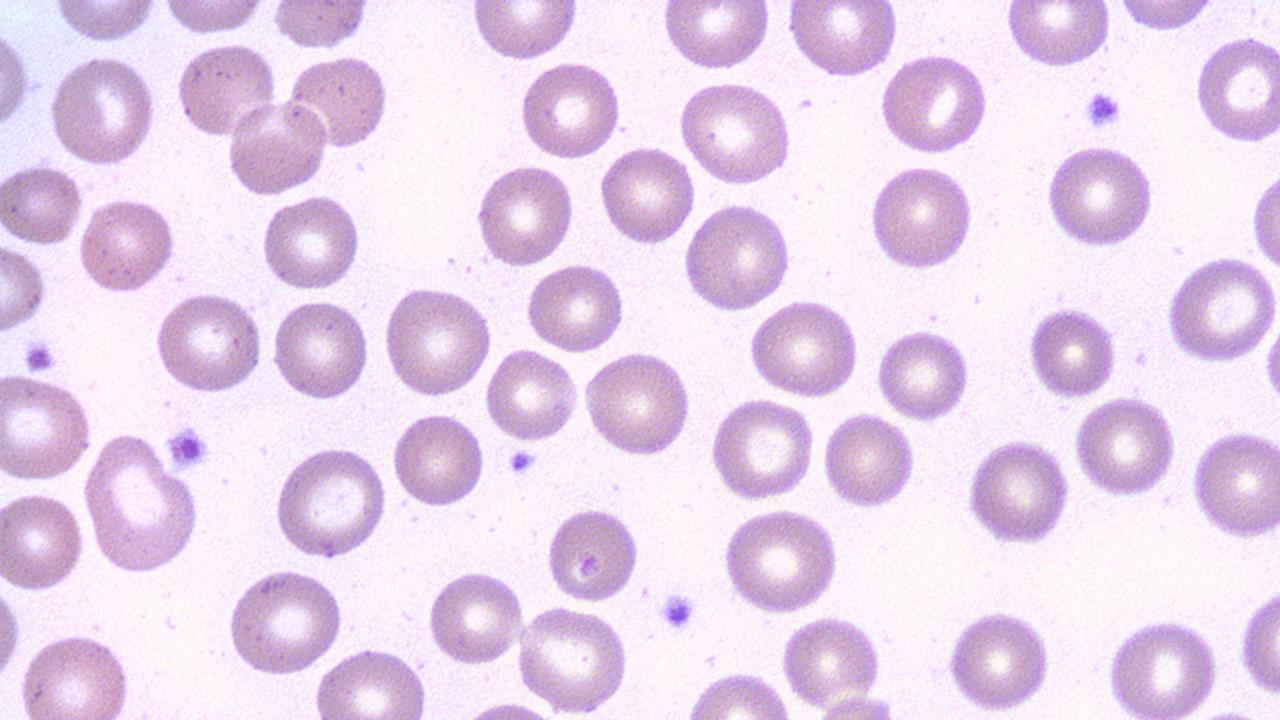Platelets: (163, 422, 212, 474), (659, 586, 698, 635), (1082, 89, 1124, 134), (21, 336, 60, 376), (506, 446, 539, 476)
RBC: (81, 430, 204, 574), (222, 565, 348, 679), (511, 602, 633, 714), (271, 444, 388, 560), (379, 282, 494, 399), (719, 506, 842, 615), (676, 77, 796, 188), (47, 52, 158, 169), (960, 435, 1074, 548), (682, 199, 794, 313), (1042, 141, 1158, 250), (1164, 254, 1278, 364), (1101, 614, 1223, 716), (866, 162, 979, 272), (582, 350, 694, 460), (878, 50, 992, 158), (152, 289, 266, 396), (944, 608, 1056, 714), (707, 396, 819, 502), (745, 298, 863, 398), (1071, 393, 1179, 497), (514, 60, 626, 160), (472, 161, 576, 268), (285, 52, 394, 153), (0, 369, 95, 484), (76, 194, 181, 298), (16, 628, 137, 718), (269, 297, 371, 403), (256, 194, 365, 292), (223, 98, 329, 198), (1188, 425, 1278, 542), (596, 143, 696, 247), (1192, 29, 1280, 147), (425, 566, 526, 668), (174, 41, 278, 140), (782, 616, 889, 712), (542, 504, 642, 604), (874, 326, 976, 424), (388, 410, 487, 510), (820, 410, 918, 511), (481, 348, 582, 445), (1023, 300, 1119, 401), (524, 262, 628, 354), (0, 487, 88, 594), (309, 646, 432, 718), (784, 2, 897, 80), (657, 1, 770, 72), (1004, 1, 1114, 71), (0, 161, 82, 248), (467, 4, 582, 62), (1234, 577, 1280, 705), (683, 669, 799, 717), (268, 1, 373, 53), (48, 1, 160, 44), (0, 241, 49, 337), (1109, 0, 1225, 34), (1249, 158, 1279, 278), (162, 1, 267, 34), (0, 24, 31, 130), (0, 562, 24, 696)
WBC: (197, 0, 1247, 720), (0, 0, 571, 480), (287, 49, 395, 154), (267, 1, 377, 50)
